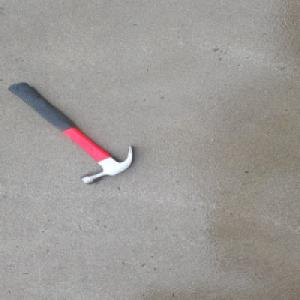Hammer: (7, 81, 137, 185)
